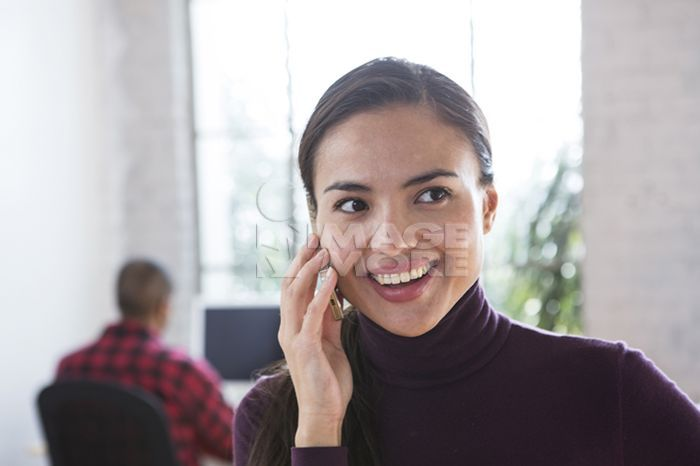phone: (286, 215, 350, 330)
talk: (267, 146, 483, 417)
